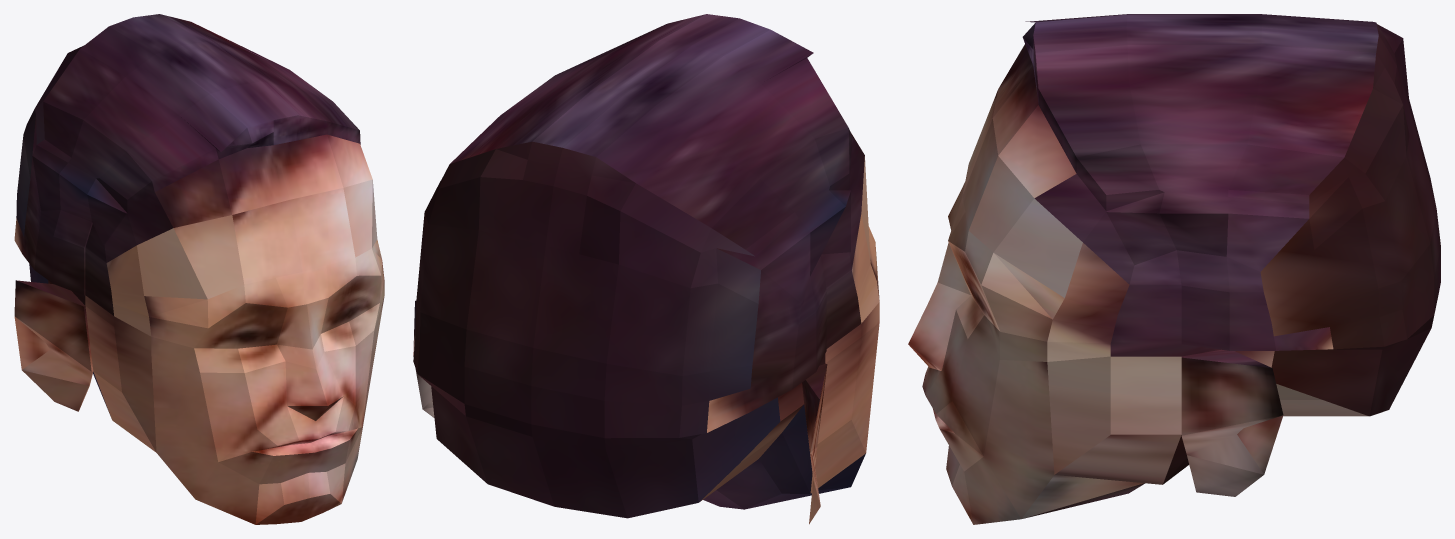
The model's file is inge.glb.
3 views of the same model, side by side, from view 1: azimuth 30°, elevation 25°; view 2: azimuth 150°, elevation 25°; view 3: azimuth 270°, elevation 25° (orthographic). The views are drawn at different scales.
Parts seen in each view (by area): view 1: Inge; view 2: Inge; view 3: Inge.
Boxes of the visible parts, bbox=[...] form: Inge: bbox=[14, 14, 384, 524]; Inge: bbox=[413, 14, 879, 524]; Inge: bbox=[908, 14, 1440, 524].
Size of the model in its own units: 1.67 by 1.93 by 1.95.
1 material, 1 textured.
